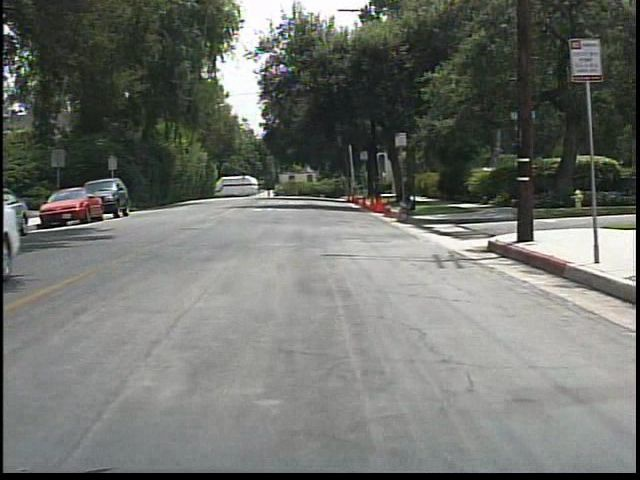person: (394, 191, 424, 224)
